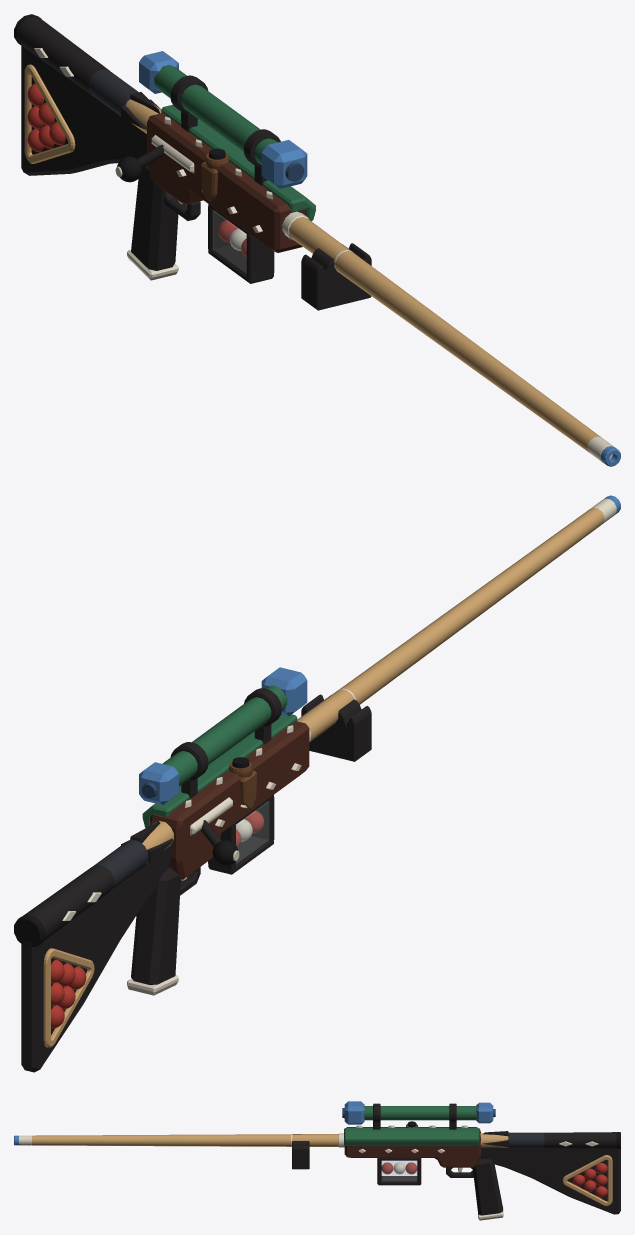
The model's file is w_sniper@sniper_cue.glb.
3 renders of one model, top to bottom at view 1: azimuth 30°, elevation 25°; view 2: azimuth 150°, elevation 25°; view 3: azimuth 270°, elevation 25°, orthographic. The views are drawn at different scales.
Parts seen in each view (by area): view 1: stock_wzB__ebony__p231f20, barrel_wzA__maple__pc8a06a, body_wzB__rail__p4e2a1e, grip_wzB__ebony__p231f20, scope_wzN__felt__p2f6b4a, fore_wzB__ebony__p231f20, mag_wzB__ebony__p231f20, scope_wzN__chalk__p4d7fb8, body_wzA__felt__p2f6b4a, stock_wzA__maple__pc8a06a, stock_wzN__red__pa8352c, scope_wzN__ebony__p231f20 (+4 smaller); view 2: stock_wzB__ebony__p231f20, barrel_wzA__maple__pc8a06a, body_wzB__rail__p4e2a1e, grip_wzB__ebony__p231f20, scope_wzN__felt__p2f6b4a, fore_wzB__ebony__p231f20, scope_wzN__chalk__p4d7fb8, stock_wzA__maple__pc8a06a, body_wzA__felt__p2f6b4a, mag_wzB__ebony__p231f20, scope_wzN__ebony__p231f20, stock_wzN__red__pa8352c (+3 smaller); view 3: stock_wzB__ebony__p231f20, barrel_wzA__maple__pc8a06a, body_wzA__felt__p2f6b4a, body_wzB__rail__p4e2a1e, scope_wzN__felt__p2f6b4a, grip_wzB__ebony__p231f20, stock_wzA__maple__pc8a06a, scope_wzN__chalk__p4d7fb8, mag_wzB__ebony__p231f20, stock_wzN__red__pa8352c, mag_wzN__glass__gd6eef640, stock_wzN__wrap__p2b2e35 (+6 smaller).
Boxes of the visible parts, box(x1,y1,x2,y2) form: stock_wzB__ebony__p231f20: box(18, 17, 146, 175); barrel_wzA__maple__pc8a06a: box(289, 217, 601, 452); body_wzB__rail__p4e2a1e: box(147, 113, 305, 252); grip_wzB__ebony__p231f20: box(131, 165, 178, 270); scope_wzN__felt__p2f6b4a: box(154, 65, 277, 164); fore_wzB__ebony__p231f20: box(301, 243, 371, 310); mag_wzB__ebony__p231f20: box(208, 204, 274, 283); scope_wzN__chalk__p4d7fb8: box(139, 51, 307, 188); body_wzA__felt__p2f6b4a: box(161, 104, 315, 221); stock_wzA__maple__pc8a06a: box(24, 64, 161, 163); stock_wzN__red__pa8352c: box(27, 83, 65, 152); scope_wzN__ebony__p231f20: box(170, 75, 280, 185); stock_wzB__ebony__p231f20: box(21, 845, 170, 1072); barrel_wzA__maple__pc8a06a: box(297, 507, 604, 741); body_wzB__rail__p4e2a1e: box(150, 721, 309, 879); grip_wzB__ebony__p231f20: box(131, 867, 180, 984); scope_wzN__felt__p2f6b4a: box(162, 685, 287, 785); fore_wzB__ebony__p231f20: box(301, 694, 371, 761); scope_wzN__chalk__p4d7fb8: box(139, 667, 307, 805); stock_wzA__maple__pc8a06a: box(43, 821, 173, 1047); body_wzA__felt__p2f6b4a: box(142, 714, 297, 827); mag_wzB__ebony__p231f20: box(208, 795, 274, 874); scope_wzN__ebony__p231f20: box(170, 688, 281, 798); stock_wzN__red__pa8352c: box(51, 959, 86, 1028); stock_wzB__ebony__p231f20: box(480, 1132, 620, 1214); barrel_wzA__maple__pc8a06a: box(32, 1134, 338, 1146); body_wzA__felt__p2f6b4a: box(344, 1128, 479, 1145); body_wzB__rail__p4e2a1e: box(344, 1127, 480, 1167); scope_wzN__felt__p2f6b4a: box(364, 1106, 477, 1120); grip_wzB__ebony__p231f20: box(472, 1157, 502, 1215); stock_wzA__maple__pc8a06a: box(480, 1133, 612, 1205); scope_wzN__chalk__p4d7fb8: box(344, 1101, 493, 1124); mag_wzB__ebony__p231f20: box(377, 1157, 421, 1185); stock_wzN__red__pa8352c: box(572, 1163, 607, 1197); mag_wzN__glass__gd6eef640: box(382, 1161, 416, 1180); stock_wzN__wrap__p2b2e35: box(508, 1132, 544, 1147).
Size of the model in its own units: 0.1775 by 0.4275 by 2.07.
